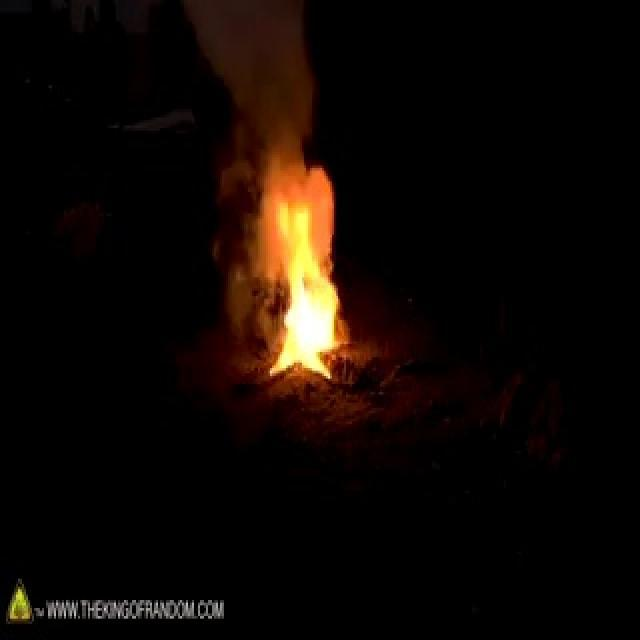fire: (268, 194, 354, 384)
